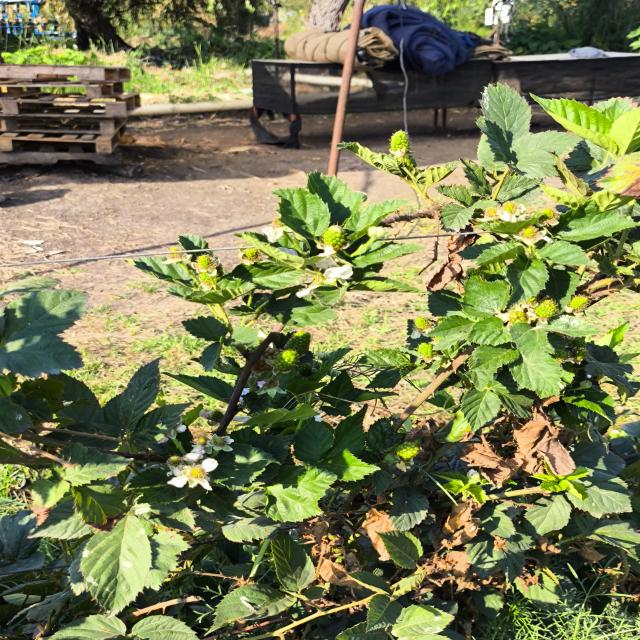flor: (168, 458, 218, 491)
verde: (389, 130, 416, 167), (484, 202, 526, 222), (322, 225, 349, 250), (286, 331, 311, 354), (519, 225, 546, 246), (274, 349, 299, 371), (395, 441, 420, 460), (534, 299, 557, 318), (568, 295, 589, 310), (197, 254, 217, 269)
